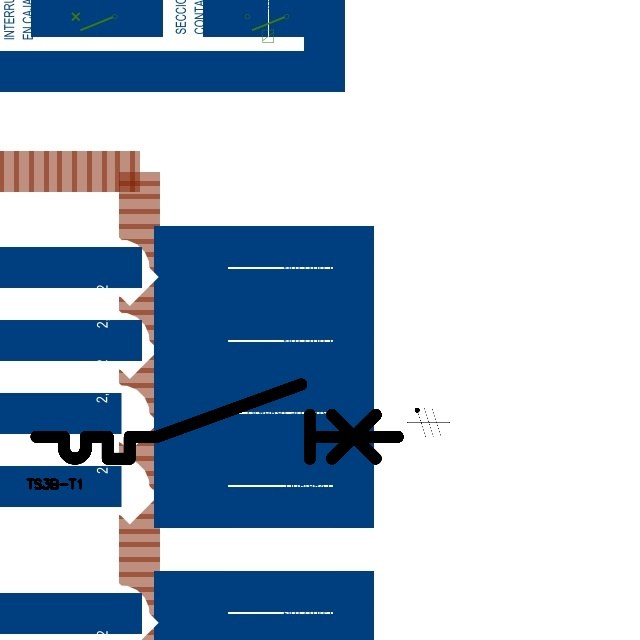interruptor_termomagnetico: (27, 375, 407, 468)
